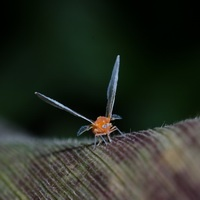insect: (34, 55, 124, 147)
